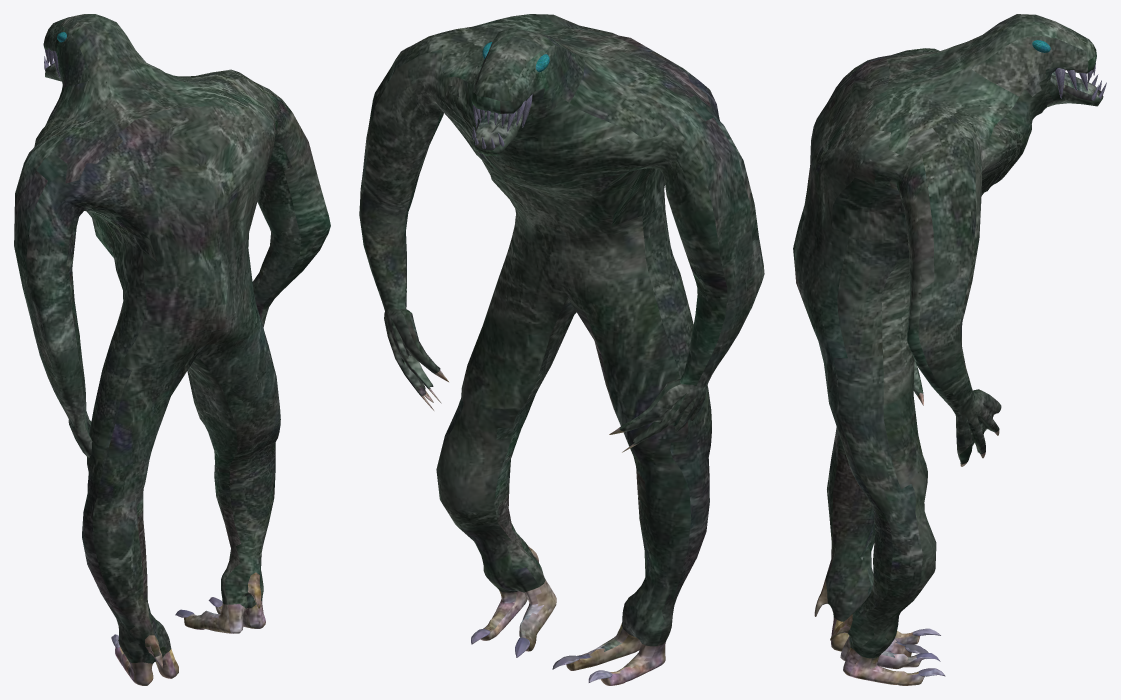
File: Andar.0003.obj
3 renders of one model, left to right at view 1: azimuth 30°, elevation 25°; view 2: azimuth 150°, elevation 25°; view 3: azimuth 270°, elevation 25°, orthographic. The views are drawn at different scales.
Visible parts, largest first — view 1: polySurface28; view 2: polySurface28; view 3: polySurface28.
Part boxes in pixels (x1,y1,x2,y2): polySurface28: [14, 14, 330, 685]; polySurface28: [359, 14, 764, 685]; polySurface28: [793, 14, 1106, 685].
Size of the model in its own units: 1.27 by 2.29 by 1.02.
Materials: 4 (4 with a texture image).
